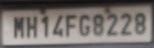character: (78, 14, 91, 36), (105, 13, 118, 35), (133, 12, 146, 34), (25, 15, 37, 38), (52, 13, 64, 36), (120, 12, 132, 35), (65, 13, 77, 35), (92, 13, 104, 35), (13, 15, 24, 38), (41, 14, 48, 38)
